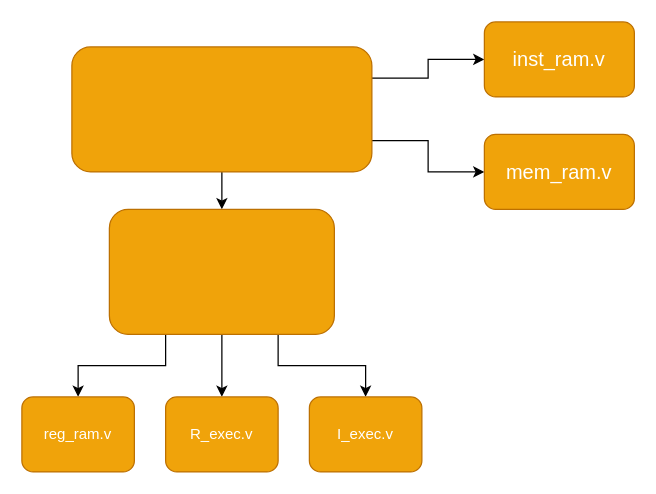
This 656x494 diagram has some shape labels left out. The shapes that lost their labels are listed below. From the top down, each one's box as (x1, y1, x2, y2) in pixels, then its label:
(71, 46, 372, 172): 顶层模块
(108, 208, 334, 334): cpu.v
